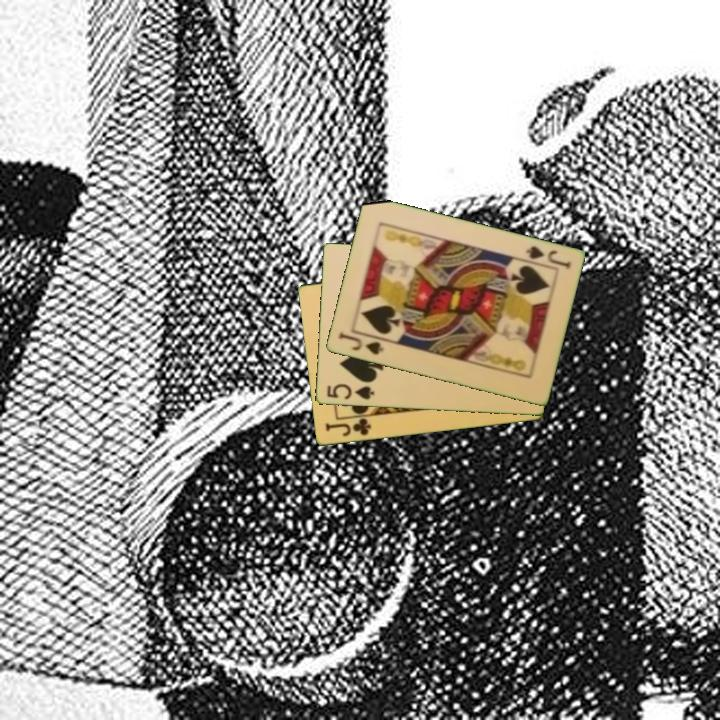5s: (323, 380, 377, 403)
Jc: (321, 415, 374, 440)
Js: (335, 328, 386, 358), (522, 243, 573, 272)
